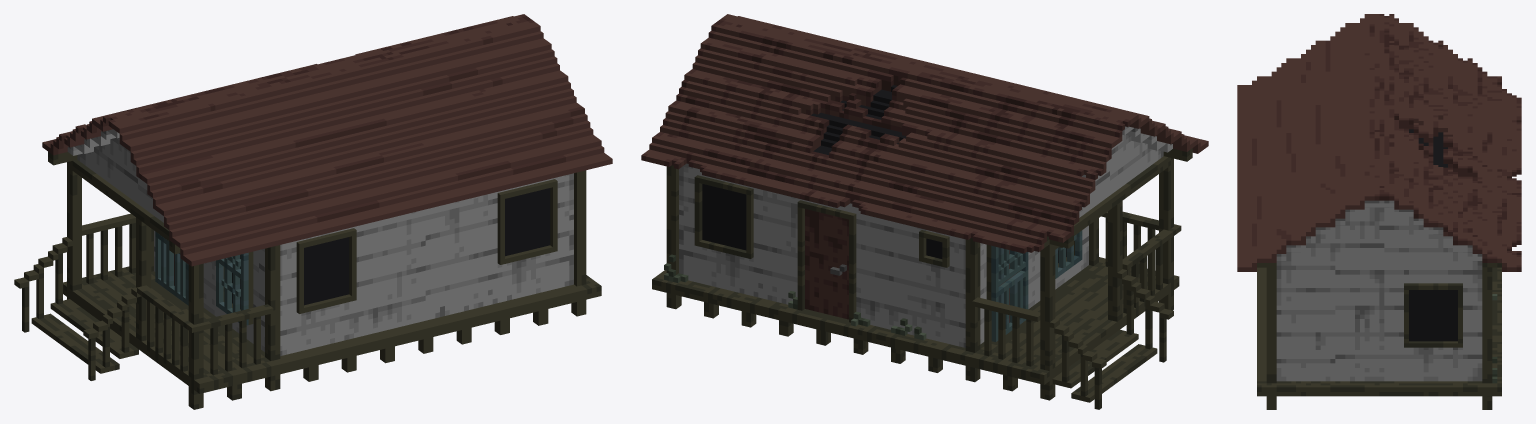
File: CountrySide-5-House.obj
The picture shows the model from 3 angles, left to right: view 1: azimuth 30°, elevation 25°; view 2: azimuth 150°, elevation 25°; view 3: azimuth 270°, elevation 25°; orthographic projection. The views are drawn at different scales.
Parts seen in each view (by area): view 1: House; view 2: House; view 3: House.
Boxes of the visible parts, x1,y1,x2,y2 form: House: [14, 14, 612, 409]; House: [641, 14, 1208, 409]; House: [1237, 14, 1521, 409].
Size of the model in its own units: 9.5 by 4.9 by 5.8.
1 material, 1 textured.
